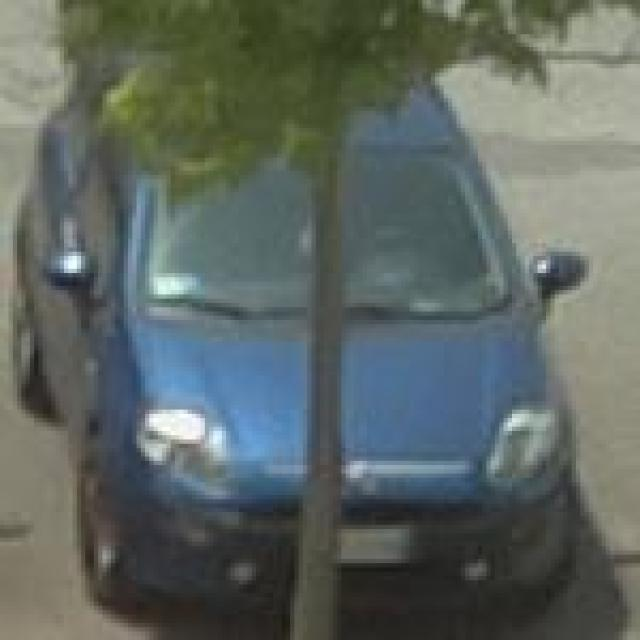cars-sUYr: (5, 13, 620, 640)
